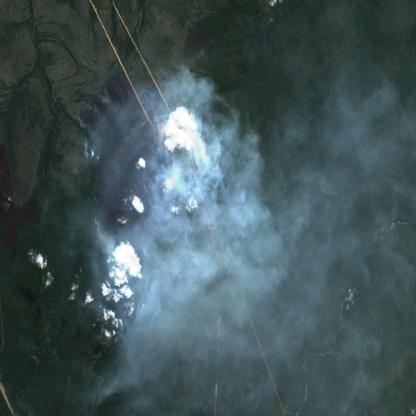fire: (74, 71, 175, 278)
